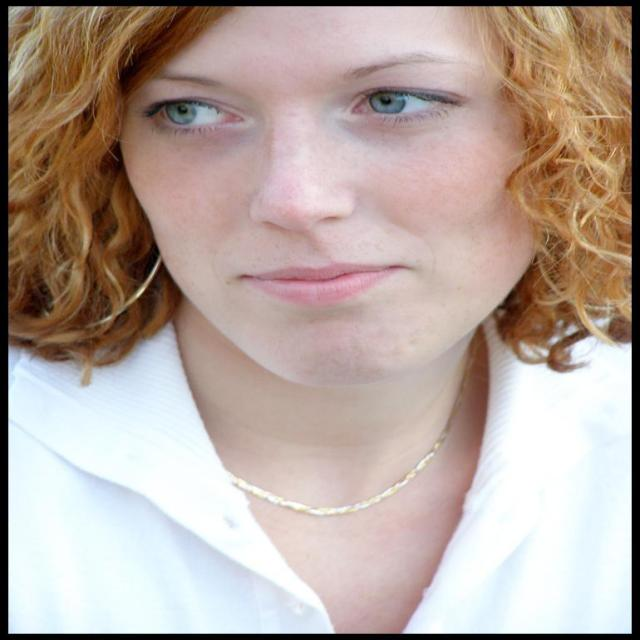no-glass: (142, 84, 459, 128)
